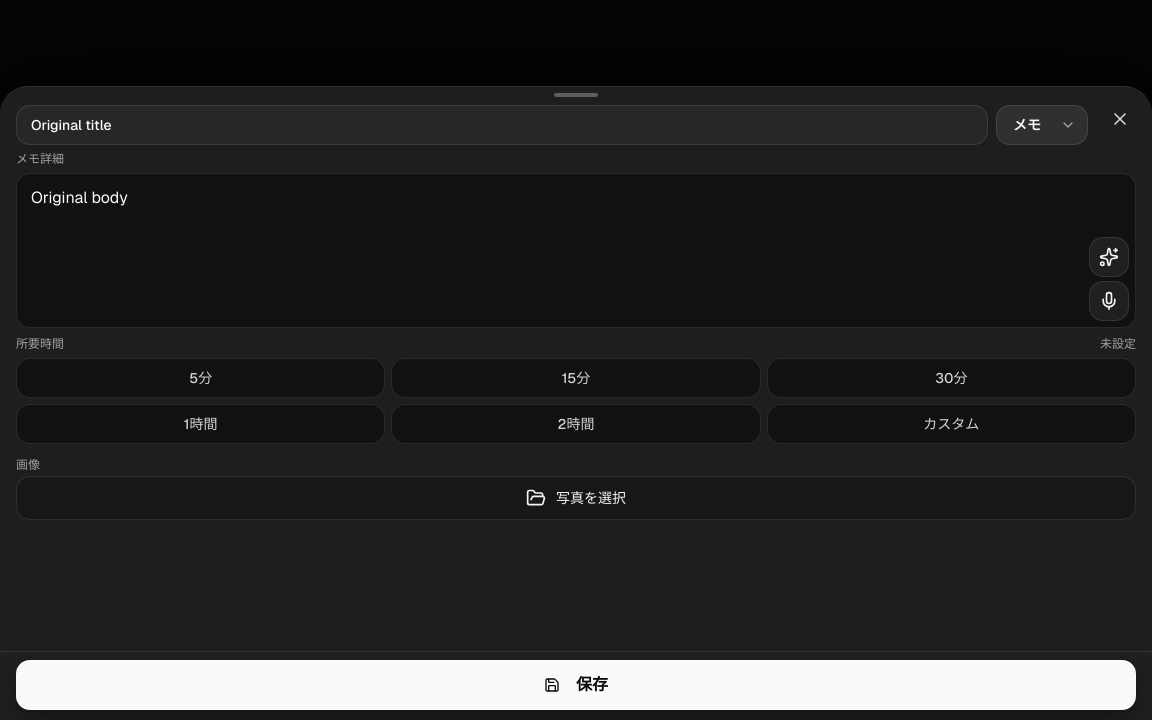
Scenario: WishlistCardDetail › スマホ保存に失敗したら編集画面を閉じず未同期下書きを残す
Replace the text in the field showing "Original title" with "Local title" at x=502, y=125, box [16, 105, 988, 145]
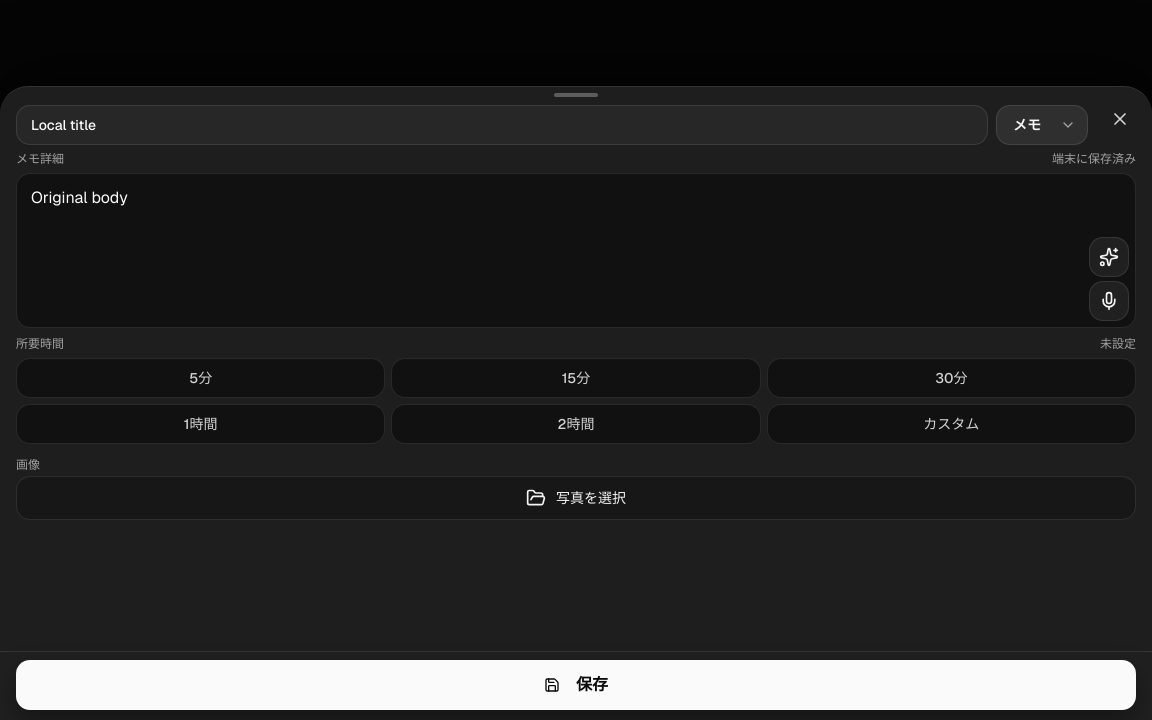
Replace the text in the text box with placeholder "本文を入力" with "Local body" at x=576, y=247, box [17, 174, 1135, 320]
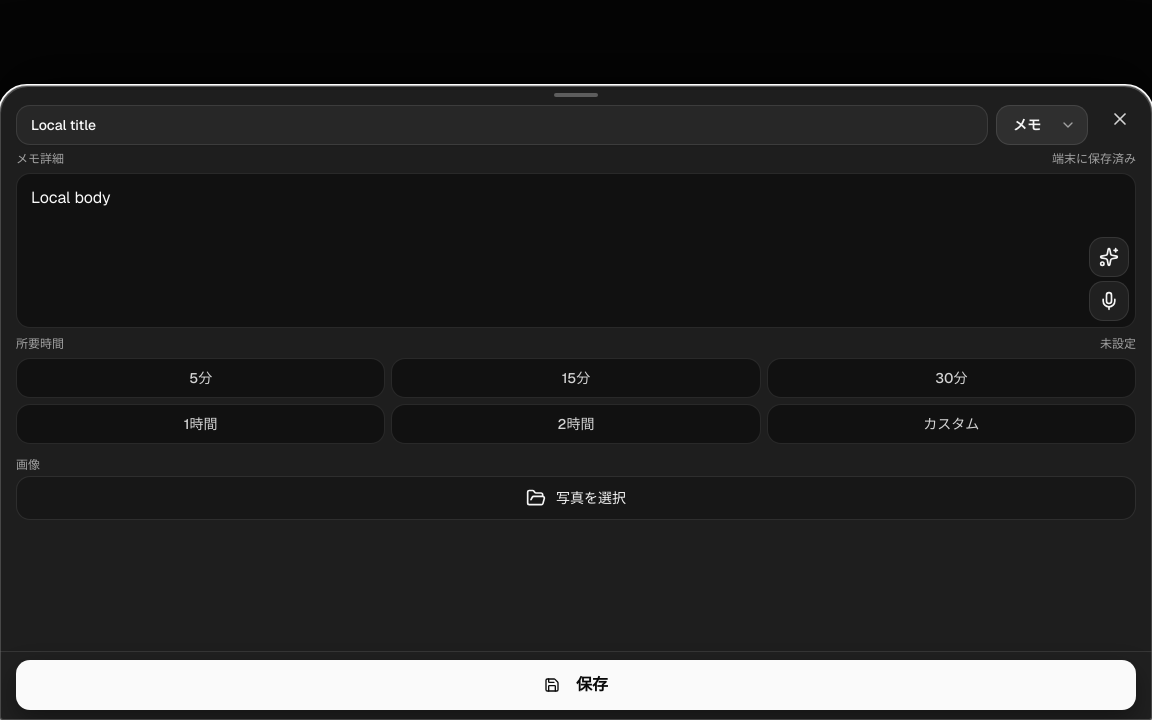
Click the button "保存" at x=576, y=685, box [16, 660, 1136, 710]
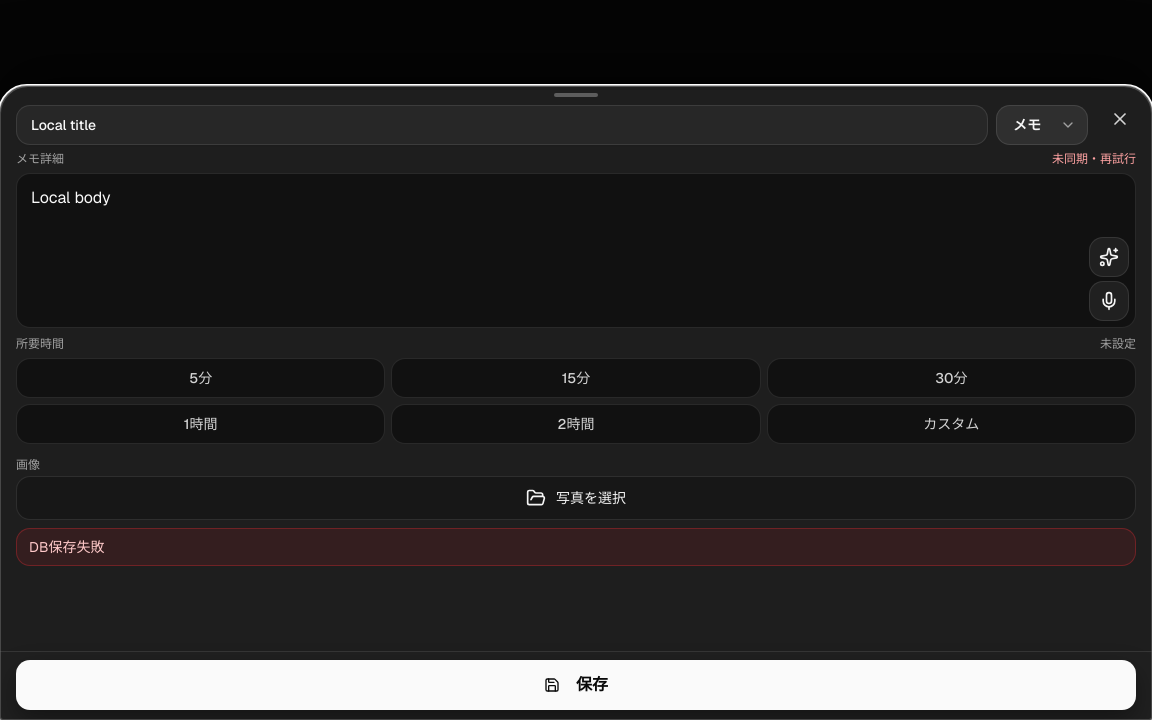
Expected: the text "未同期・再試行" is shown, [1052, 151, 1136, 167]
Expected: the text "DB保存失敗" is shown, [16, 528, 1136, 566]
